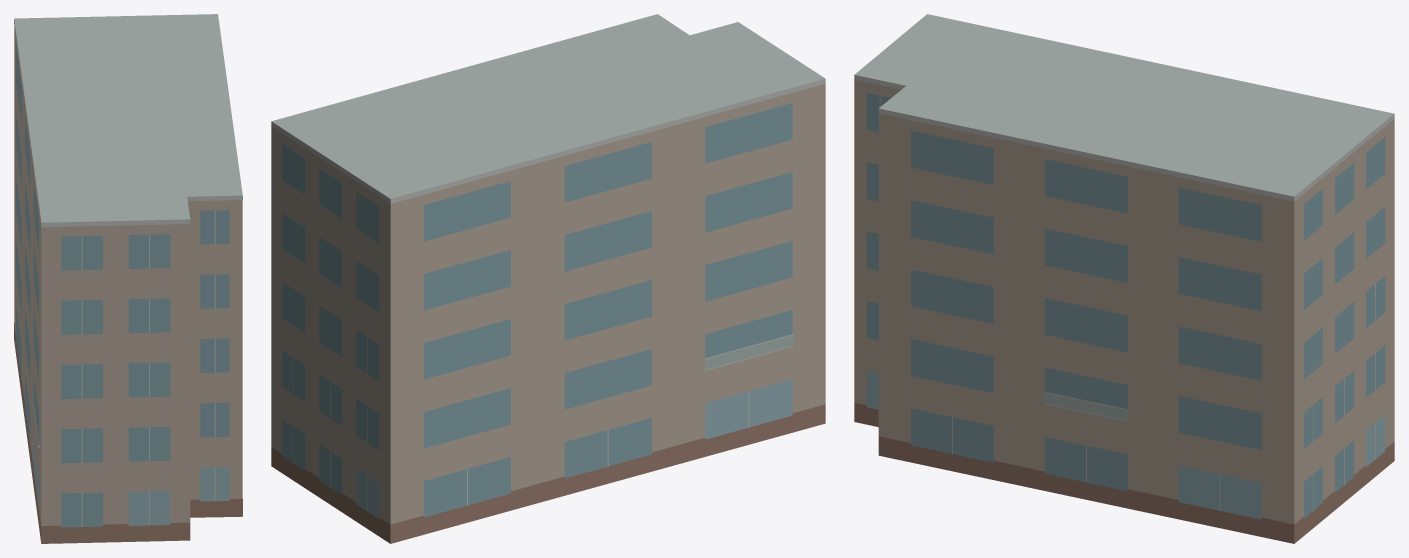
The model's file is survey-upis-32537679.glb.
3 renders of one model, left to right at view 1: azimuth 30°, elevation 25°; view 2: azimuth 150°, elevation 25°; view 3: azimuth 270°, elevation 25°, orthographic. The views are drawn at different scales.
Visible parts, largest first — view 1: survey-upis-32537679.tmp; view 2: survey-upis-32537679.tmp; view 3: survey-upis-32537679.tmp.
Boxes of the visible parts, x1=… form: survey-upis-32537679.tmp: x1=14, y1=14, x2=242, y2=543; survey-upis-32537679.tmp: x1=271, y1=14, x2=825, y2=543; survey-upis-32537679.tmp: x1=854, y1=14, x2=1394, y2=543.
Size of the model in its own units: 19.43 by 17.2 by 24.27.
